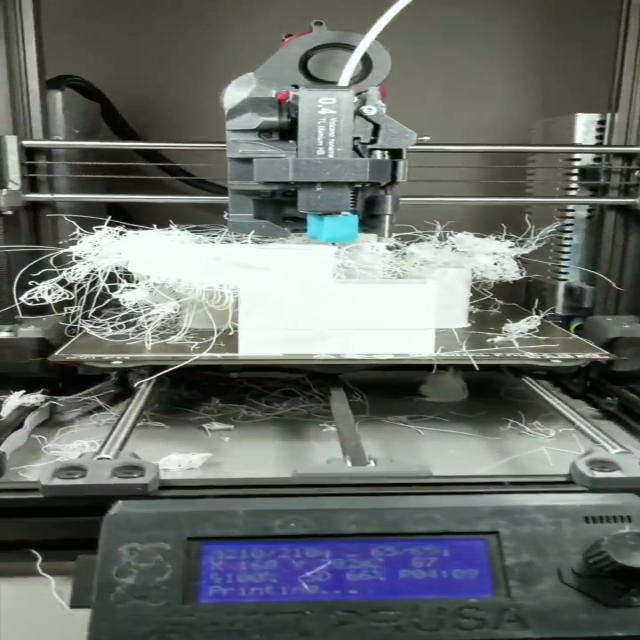spaghetti: (18, 215, 583, 360), (157, 388, 620, 478)
